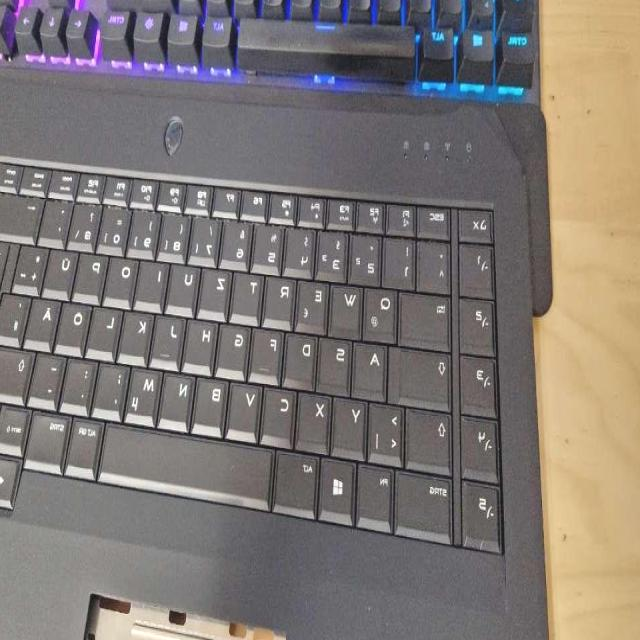0: (98, 199, 132, 253)
1: (385, 235, 417, 289)
2: (351, 230, 383, 284)
3: (319, 226, 349, 280)
4: (287, 223, 317, 275)
5: (255, 221, 285, 272)
6: (223, 216, 253, 267)
7: (191, 211, 223, 265)
8: (161, 209, 193, 260)
9: (129, 205, 163, 256)
a: (355, 339, 389, 399)
accent: (40, 195, 74, 245)
ae: (25, 295, 61, 347)
alt-left: (275, 448, 321, 516), (420, 19, 460, 71)
altgr-right: (67, 415, 107, 475), (201, 12, 237, 63)
b: (195, 373, 231, 433)
c: (263, 384, 297, 444)
caret: (420, 238, 452, 289)
comma: (94, 358, 132, 418)
d: (287, 330, 319, 388)
del: (0, 189, 46, 239)
e: (298, 276, 330, 332)
enter: (0, 233, 12, 339)
f: (251, 325, 285, 381)
g: (218, 320, 252, 376)
h: (185, 317, 219, 371)
hash: (1, 289, 33, 343)
i: (138, 257, 170, 307)
j: (152, 311, 186, 367)
k: (121, 307, 155, 363)
keyboard: (0, 155, 506, 560)
l: (88, 302, 124, 356)
less: (371, 400, 405, 464)
m: (128, 364, 164, 424)
minus: (30, 351, 68, 405)
n: (161, 368, 197, 428)
o: (106, 254, 140, 305)
oe: (56, 299, 92, 353)
p: (75, 250, 109, 301)
plus: (15, 241, 51, 292)
point: (63, 356, 99, 412)
q: (366, 285, 400, 341)
r: (266, 273, 298, 327)
s: (319, 334, 353, 394)
shift-left: (409, 406, 455, 472)
shift-lock: (391, 344, 453, 407)
shift-right: (0, 341, 38, 400)
space: (102, 425, 276, 503), (236, 15, 418, 80)
ss: (70, 198, 104, 248)
strg-left: (397, 470, 457, 541), (498, 23, 540, 77)
strg-right: (26, 409, 74, 471), (97, 3, 133, 54)
t: (233, 268, 265, 322)
tab: (403, 289, 453, 347)
u: (169, 261, 201, 313)
ue: (44, 246, 80, 297)
v: (230, 378, 262, 440)
w: (332, 282, 364, 338)
x: (299, 389, 333, 451)
y: (334, 395, 368, 458)
z: (201, 265, 233, 317)
